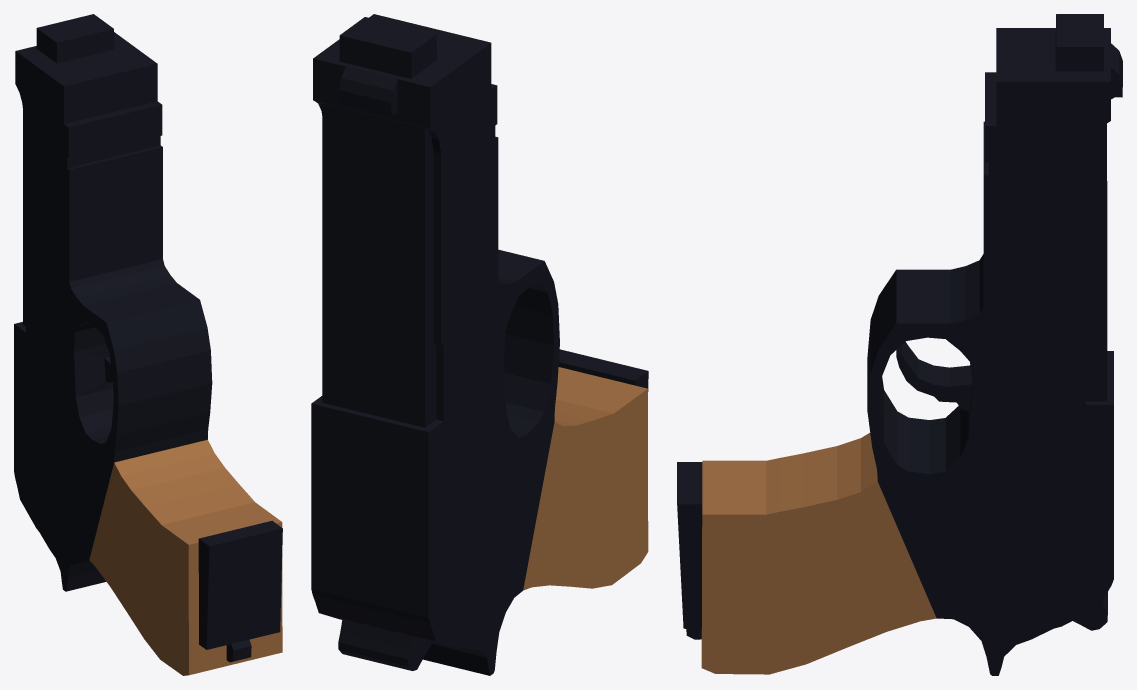
File: beretta92.fbx
The picture shows the model from 3 angles, left to right: view 1: azimuth 30°, elevation 25°; view 2: azimuth 150°, elevation 25°; view 3: azimuth 270°, elevation 25°; orthographic projection. The views are drawn at different scales.
Parts seen in each view (by area): view 1: Beretta-shape; view 2: Beretta-shape; view 3: Beretta-shape.
Boxes of the visible parts, x1=… form: Beretta-shape: x1=14, y1=14, x2=282, y2=675; Beretta-shape: x1=311, y1=14, x2=648, y2=675; Beretta-shape: x1=677, y1=14, x2=1122, y2=675.
Size of the model in its own units: 0.0485 by 0.2595 by 0.1695.
Materials: 1 (1 with a texture image).
